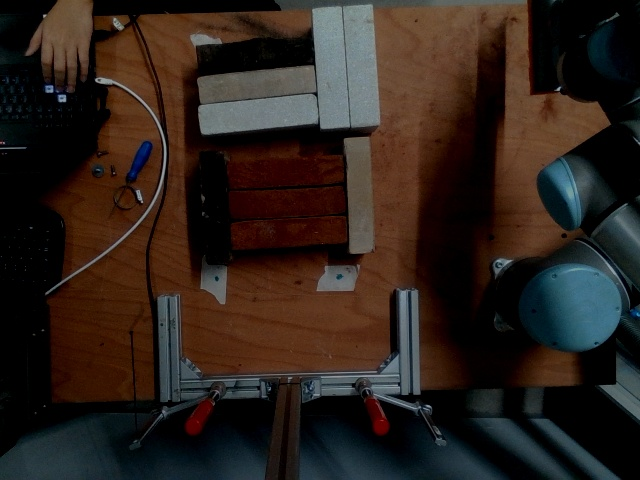brick-side: (313, 5, 348, 124), (343, 3, 377, 122), (199, 66, 313, 101), (200, 96, 314, 130), (197, 37, 311, 71), (228, 156, 341, 188), (229, 186, 342, 217), (231, 215, 344, 245), (199, 148, 228, 261), (345, 138, 373, 251)
